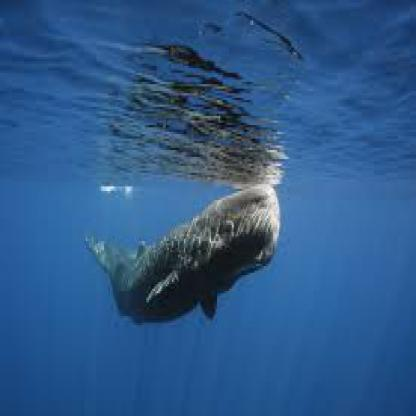sperm_whale: (83, 175, 301, 334)
